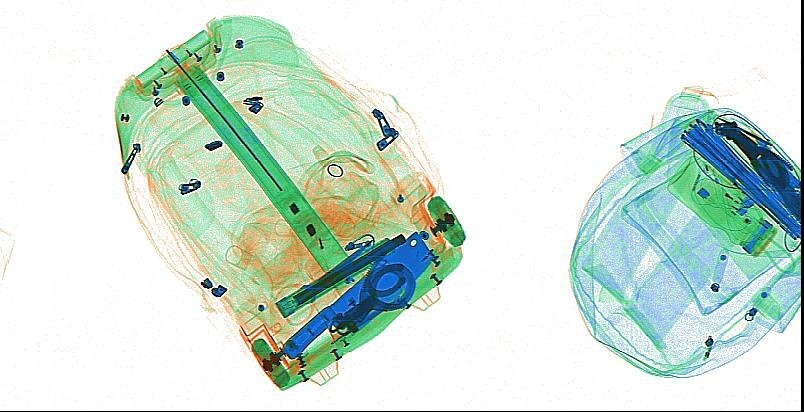handcuffs: (329, 245, 414, 335), (714, 116, 792, 190)
knife: (281, 231, 435, 358), (757, 152, 799, 218), (754, 135, 799, 187), (715, 114, 771, 146)
scissors: (273, 237, 373, 325)
